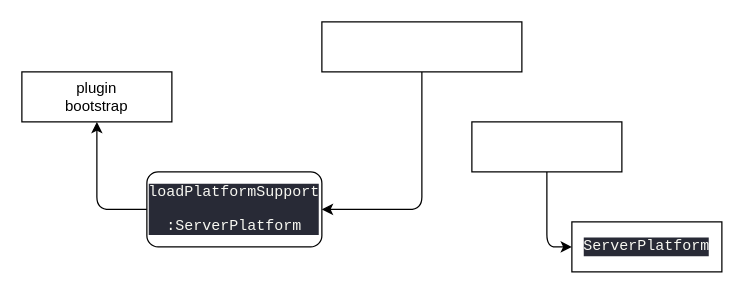
Image size: 744x294. Some labels were removed from this diagram. The centre of each missing label's shape, as x and y in pixels:
"IPlatformLoader" belongs at (x=546, y=146).
"ServerPlatformManager" belongs at (x=421, y=46).
